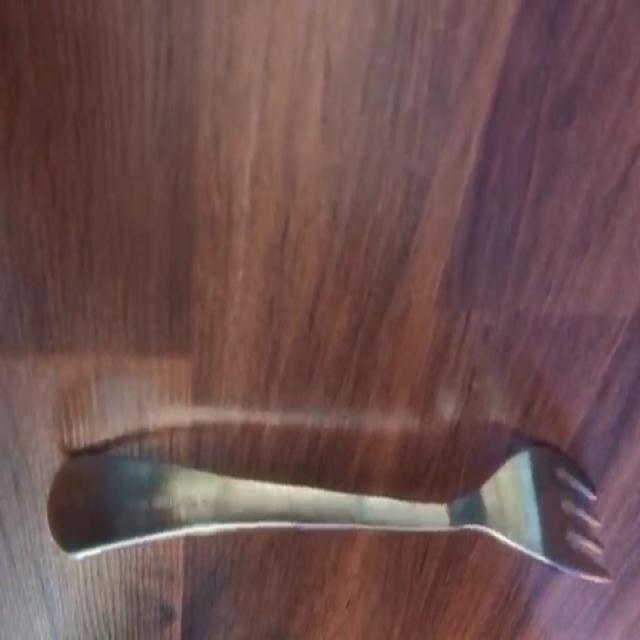spoon: (48, 444, 612, 584)
